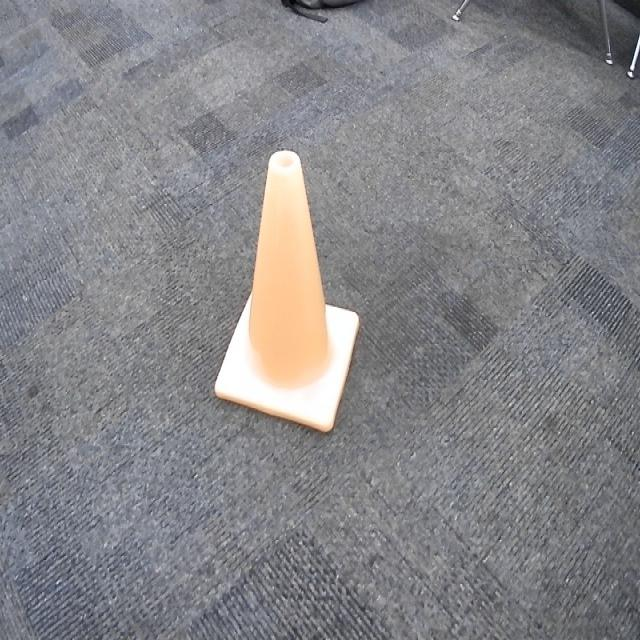cone: (206, 145, 363, 444)
